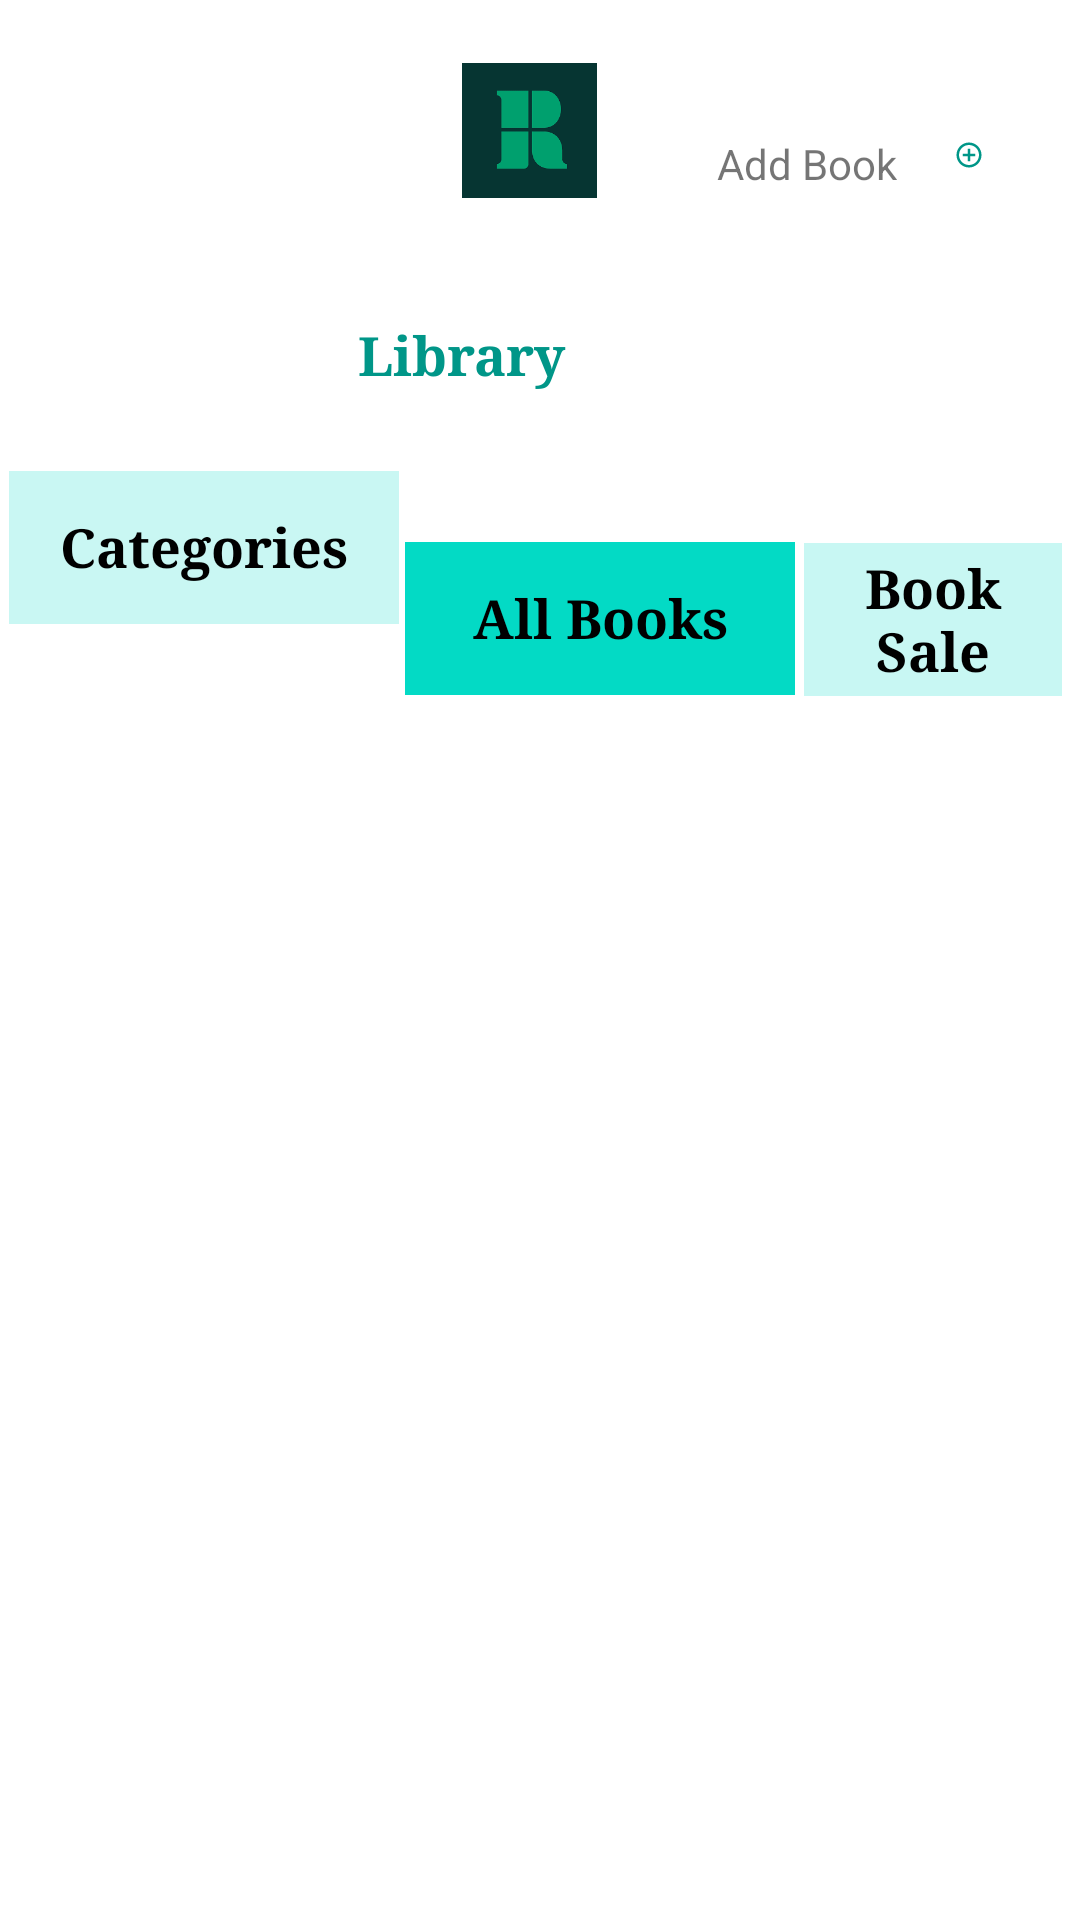

Icon bounding boxes for this 1080x1920 phone screenshot, format (x1, y1, x2, y2):
add circle: (956, 142, 982, 168)
